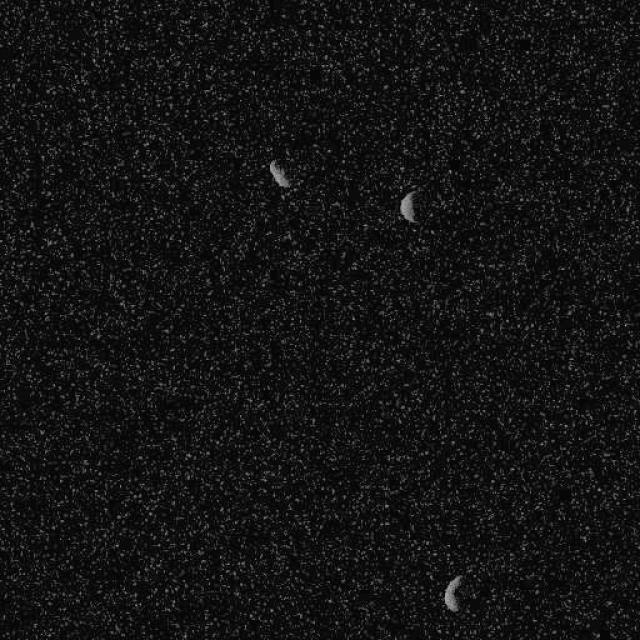D2: (442, 574, 462, 612), (399, 190, 419, 224), (268, 158, 290, 188)
